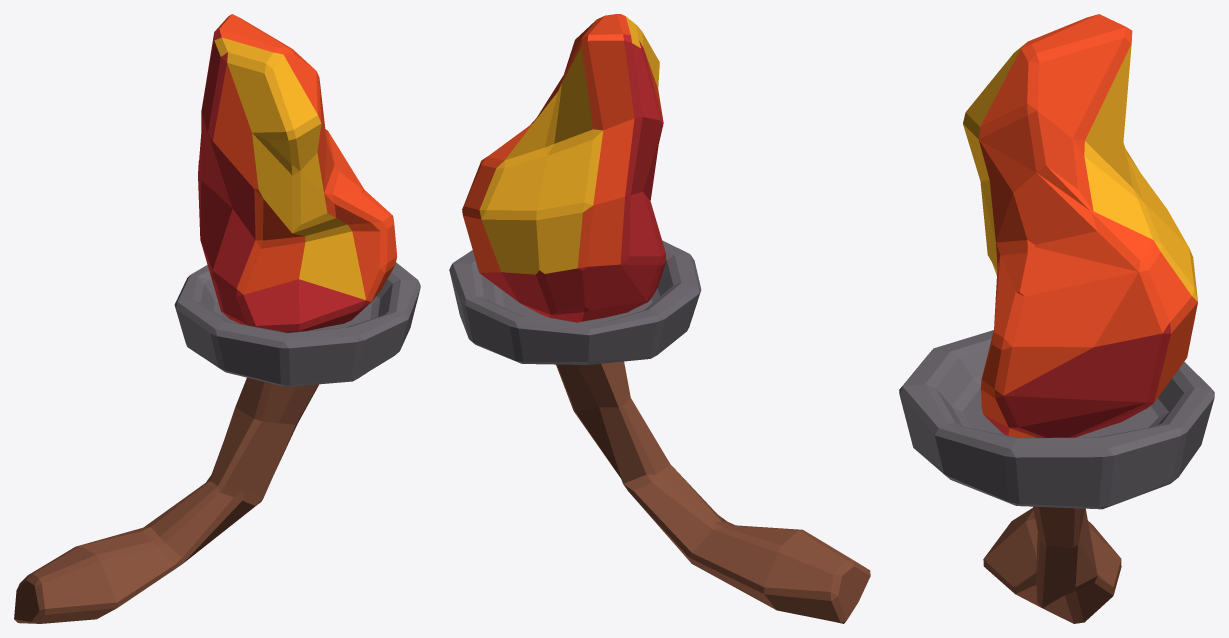
The model's file is Torch2.fbx.
The picture shows the model from 3 angles, left to right: view 1: azimuth 30°, elevation 25°; view 2: azimuth 150°, elevation 25°; view 3: azimuth 270°, elevation 25°; orthographic projection. The views are drawn at different scales.
Parts seen in each view (by area): view 1: Torch2; view 2: Torch2; view 3: Torch2.
Part boxes in pixels (x1,y1,x2,y2): Torch2: (14,14,420,623); Torch2: (449,14,870,623); Torch2: (899,14,1214,623).
Size of the model in its own units: 34.59 by 46.8 by 19.64.
